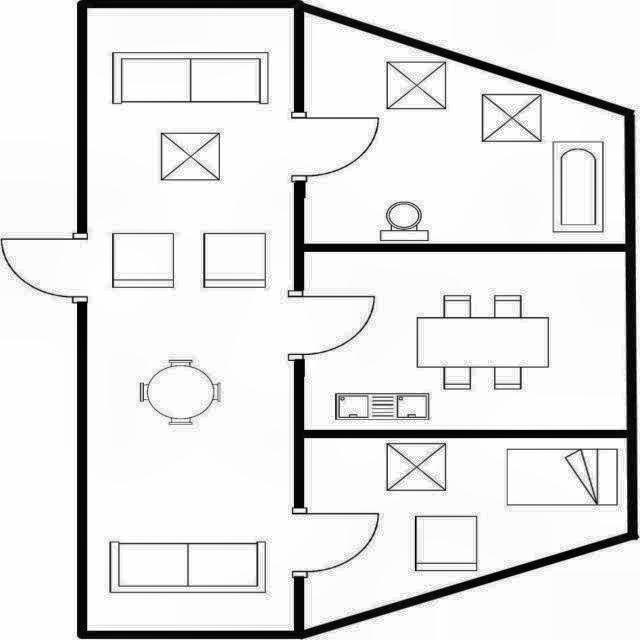room: (87, 8, 294, 631), (304, 12, 626, 244), (304, 252, 627, 430)
